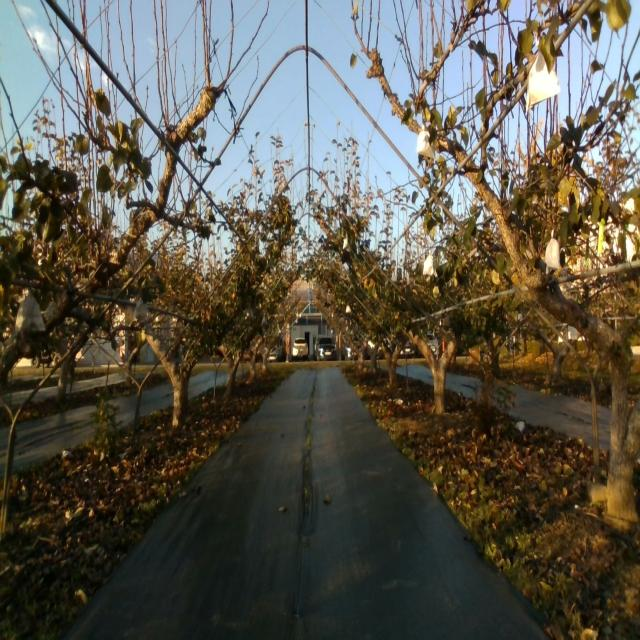pearbags: (526, 50, 561, 113), (15, 294, 46, 332), (417, 125, 435, 162), (545, 230, 562, 269), (423, 252, 437, 277), (136, 297, 146, 323)
